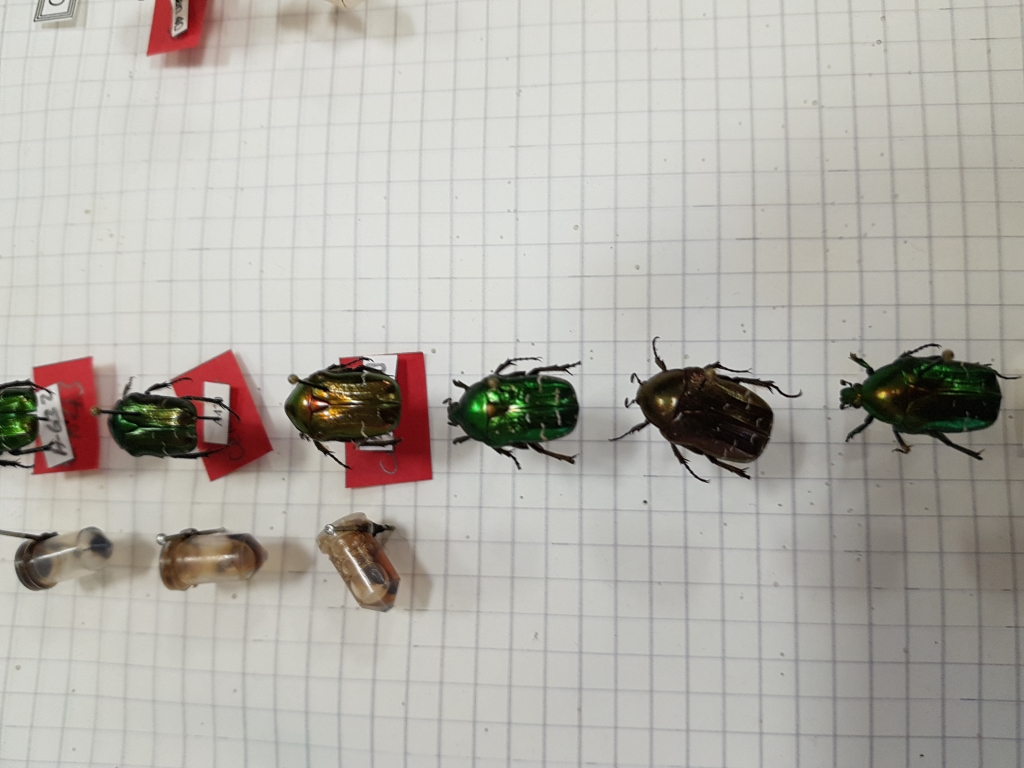Cetonia_kemali: (606, 326, 805, 498)
